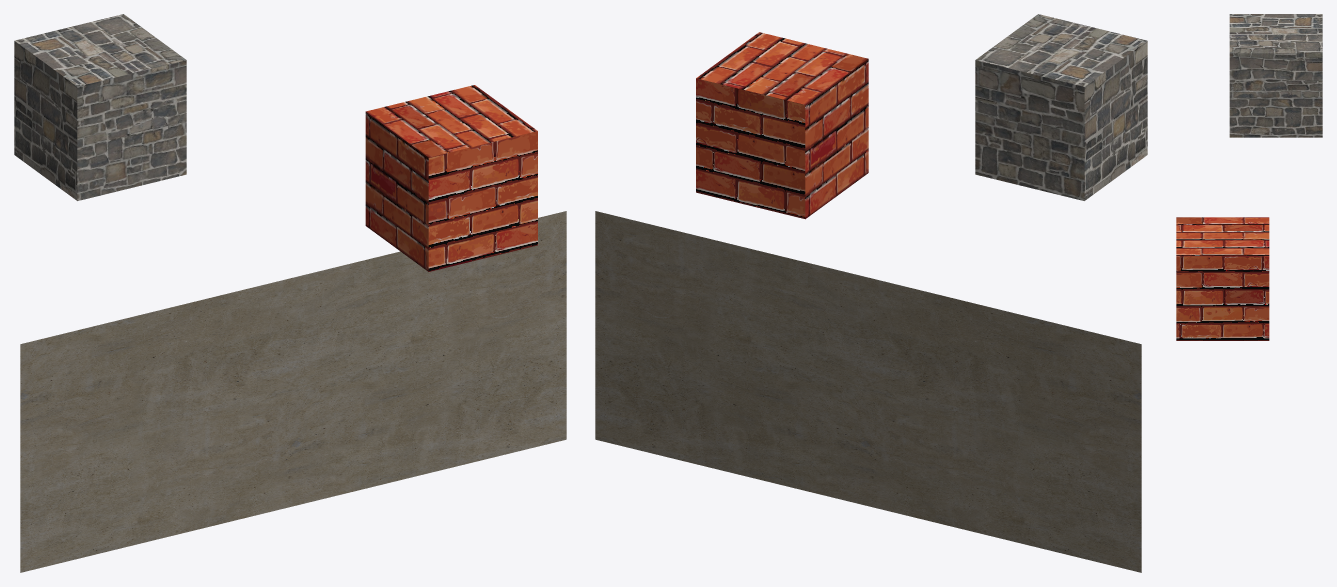
The model's file is debugScene.glb.
The picture shows the model from 3 angles, left to right: view 1: azimuth 30°, elevation 25°; view 2: azimuth 150°, elevation 25°; view 3: azimuth 270°, elevation 25°; orthographic projection. The views are drawn at different scales.
Parts seen in each view (by area): view 1: far-cube, Cube, near-cube; view 2: far-cube, near-cube, Cube; view 3: Cube, near-cube.
Boxes of the visible parts, x1,y1,x2,y2 form: far-cube: [20, 211, 566, 572]; Cube: [14, 14, 186, 200]; near-cube: [365, 85, 537, 271]; far-cube: [595, 211, 1141, 572]; near-cube: [696, 32, 868, 219]; Cube: [975, 14, 1147, 200]; Cube: [1229, 14, 1322, 137]; near-cube: [1176, 217, 1269, 340].
Size of the model in its own units: 10 by 8.8 by 3.14.
Materials: 3 (3 with a texture image).
